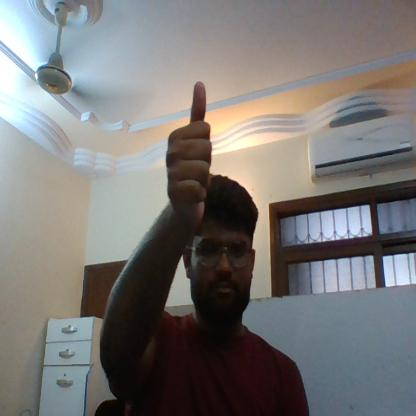thumbs-up: (162, 78, 219, 208)
